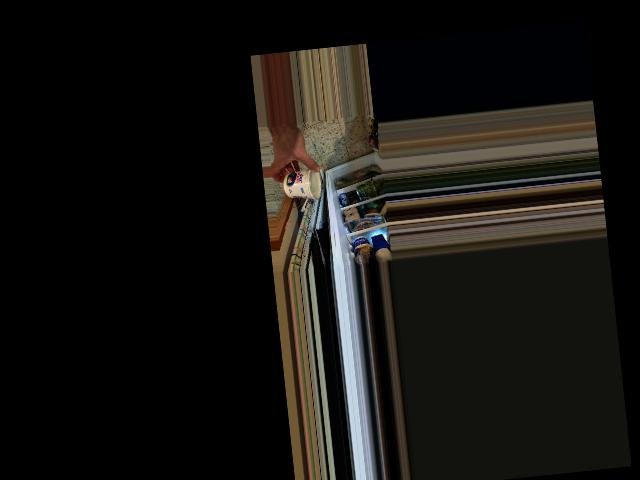cotage: (280, 167, 323, 201)
